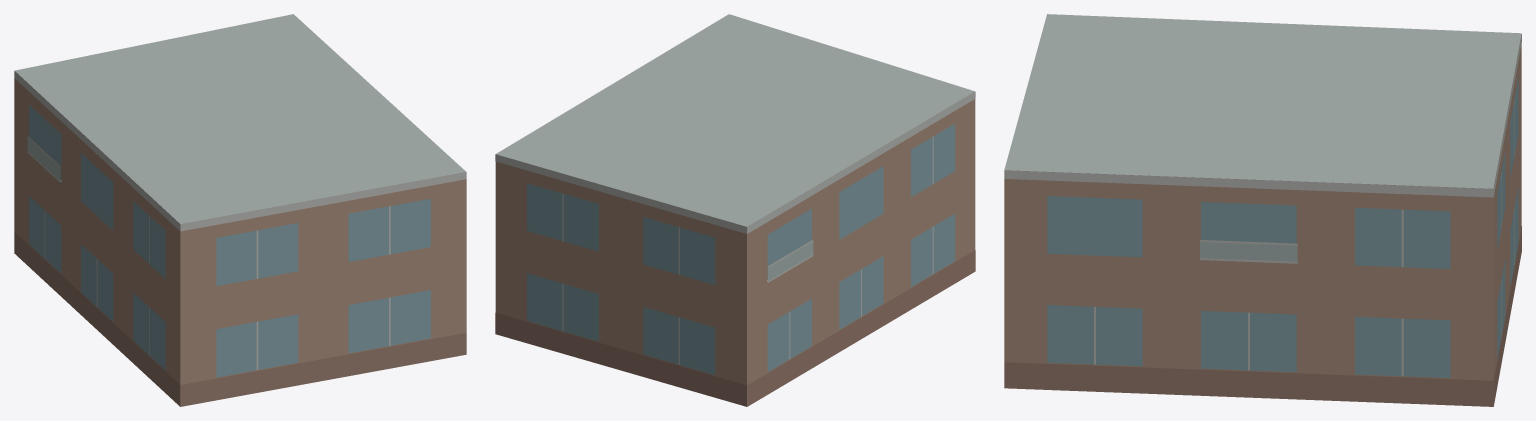
The model's file is survey-upis-32660816.glb.
3 views of the same model, side by side, from view 1: azimuth 30°, elevation 25°; view 2: azimuth 150°, elevation 25°; view 3: azimuth 270°, elevation 25° (orthographic). The views are drawn at different scales.
Visible parts, largest first — view 1: survey-upis-32660816.tmp; view 2: survey-upis-32660816.tmp; view 3: survey-upis-32660816.tmp.
Part boxes in pixels (<box>): survey-upis-32660816.tmp: <box>14,14,466,406</box>; survey-upis-32660816.tmp: <box>495,14,975,406</box>; survey-upis-32660816.tmp: <box>1004,14,1521,406</box>.
Bounding box in the file's own units: 10.5 × 6.1 × 13.13.
